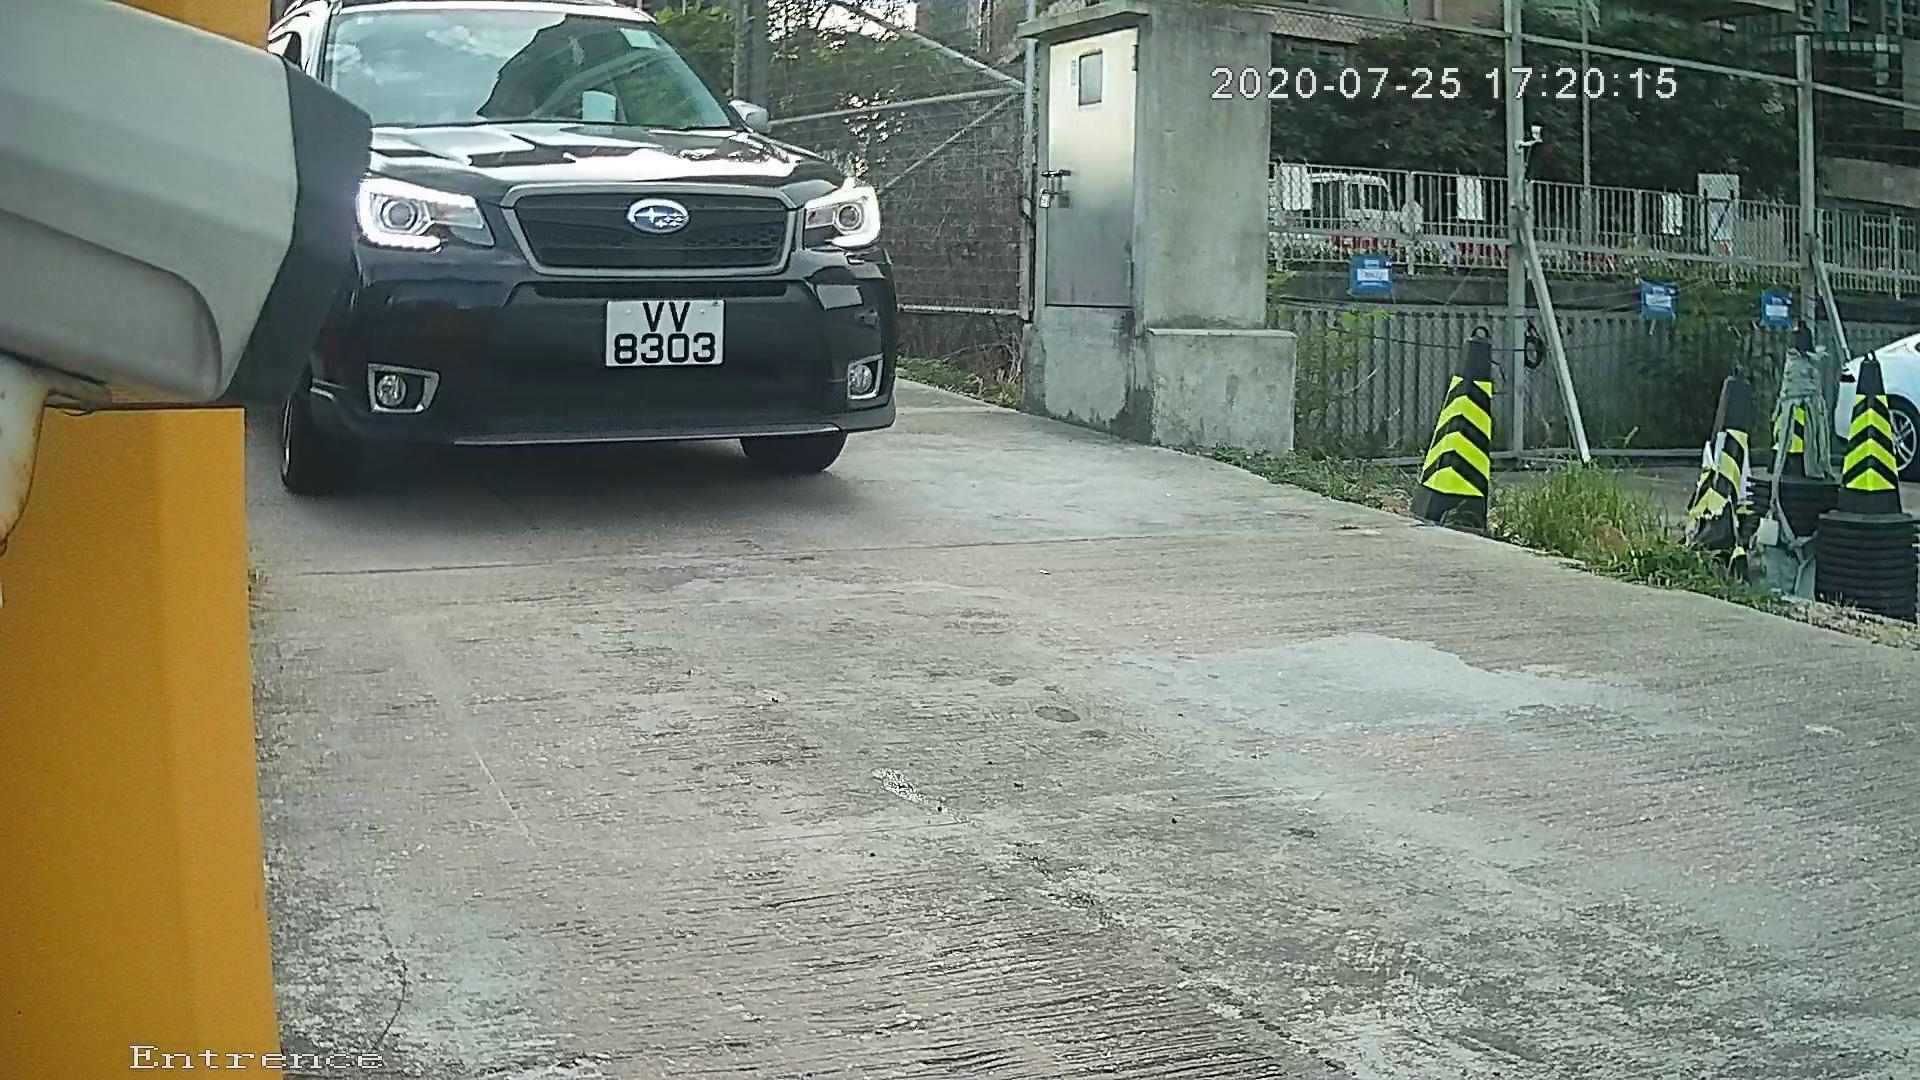privatecar: (198, 5, 996, 535)
